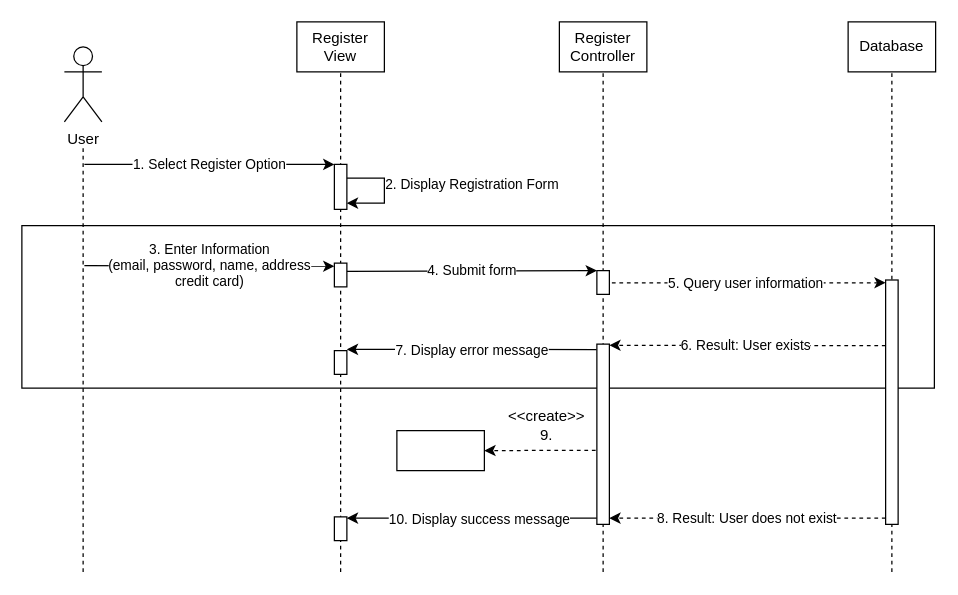
The diagram is 958 pixels wide and 595 high, and some of its shapes have lost their labels. Each missing label, with the centre of its shape:
"LOOP" belongs at point (477, 306).
"Registered User" belongs at point (440, 450).
